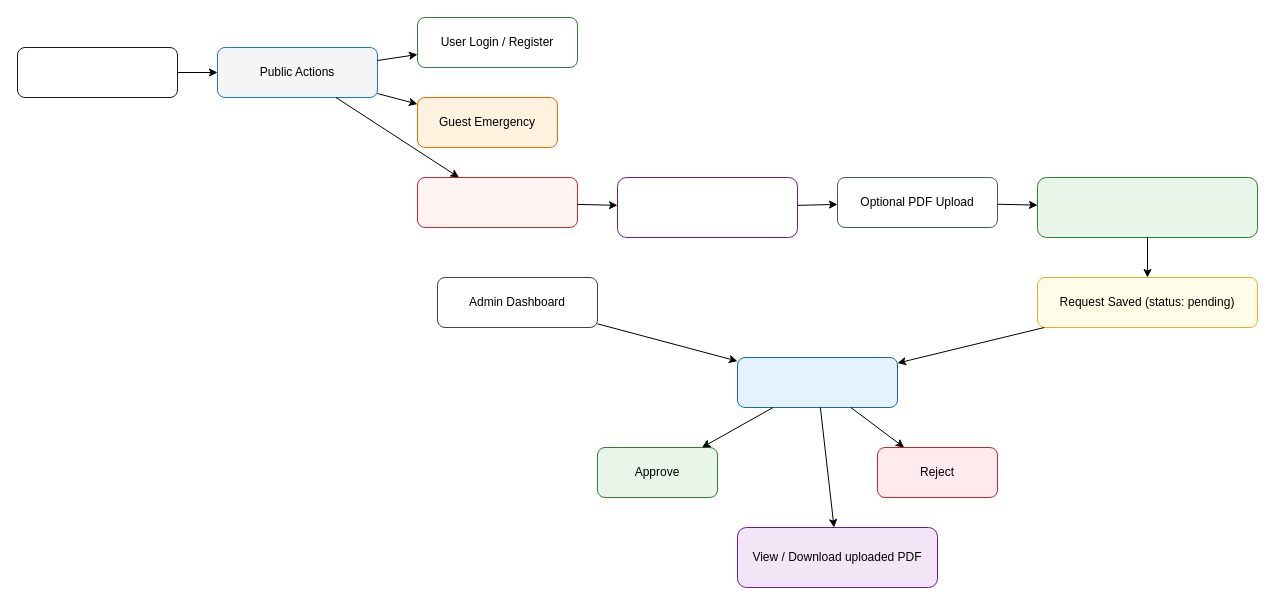
Image size: 1275x605. Some labels were removed from this diagram. Here are the shapes that lost their labels. From the top down, the box of each, then its label:
(16, 46, 178, 98): Start / Landing Page
(416, 176, 578, 228): Beneficiary Request
(616, 176, 798, 238): Submit Beneficiary Request
(1036, 176, 1258, 238): Save PDF to /static/uploads/beneficiary_docs
(736, 356, 898, 408): Admin Review
